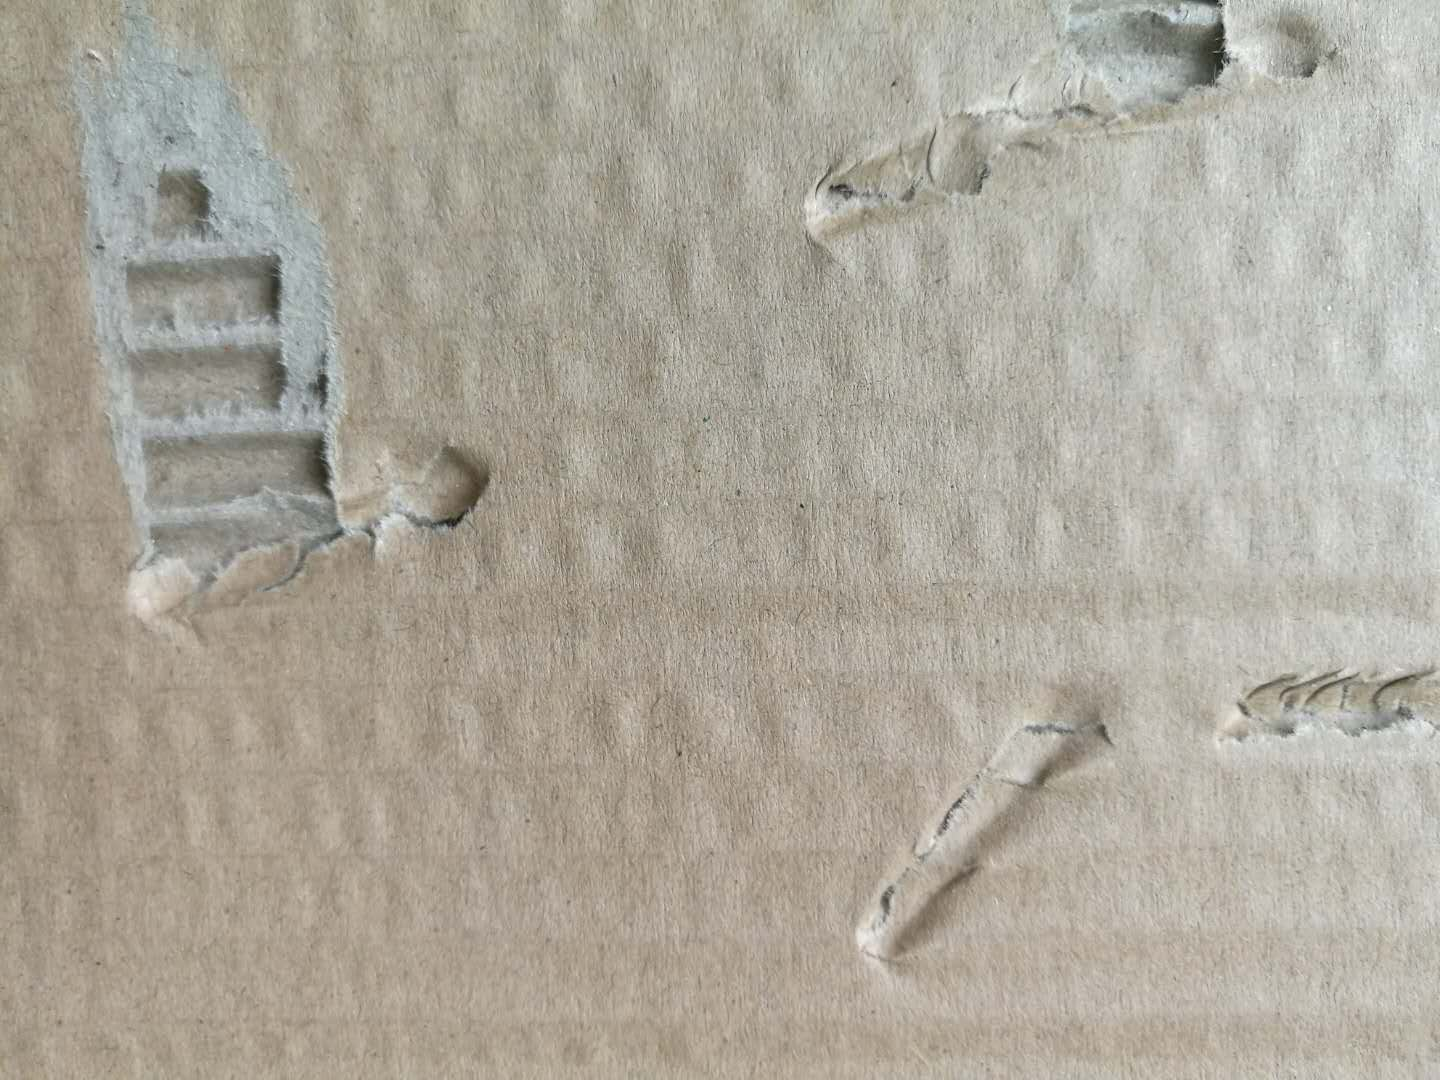defect: (48, 5, 544, 674), (766, 2, 1394, 293), (822, 651, 1143, 1001), (1191, 635, 1440, 776)
